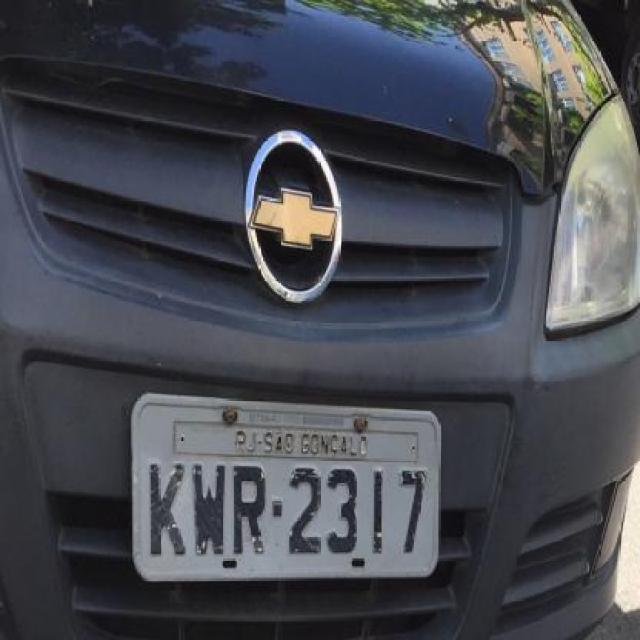old_plate: (125, 388, 448, 589)
